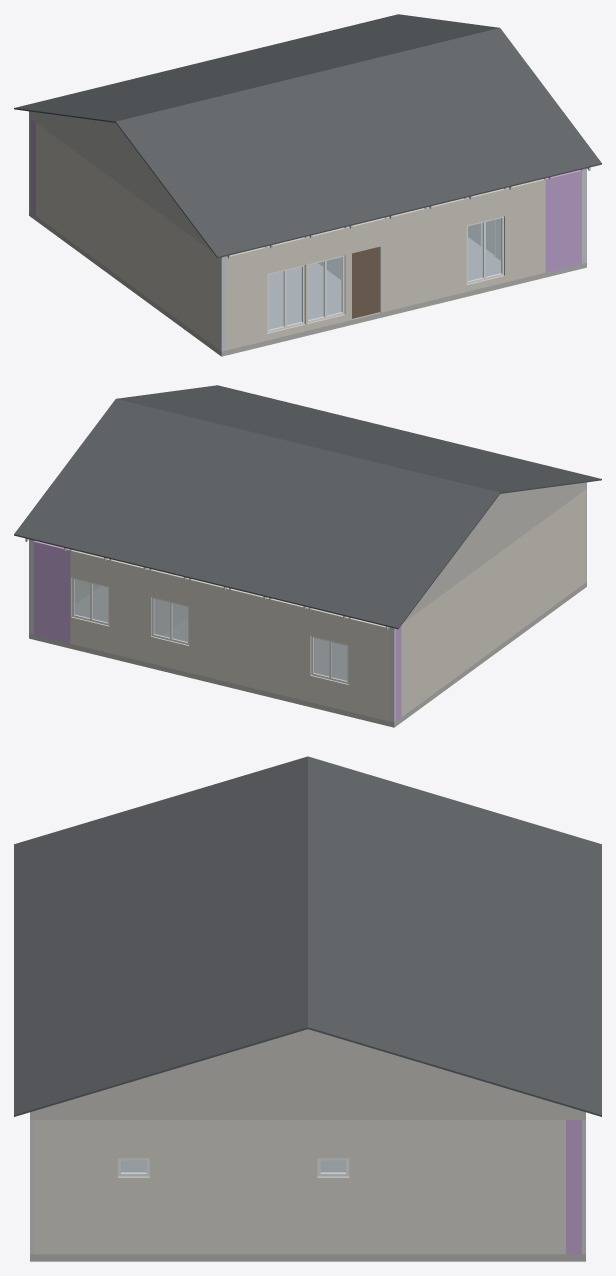
The model's file is Portman_PM-DENEME-3ARTI1-1150x1050_r01.glb.
The picture shows the model from 3 angles, top to bottom: view 1: azimuth 30°, elevation 25°; view 2: azimuth 150°, elevation 25°; view 3: azimuth 270°, elevation 25°; orthographic projection. The views are drawn at different scales.
Parts seen in each view (by area): view 1: CATI_ON, CATI_ARKA, ZEMIN_BETONU, ALIN_SOL, PANO_D_TAM_125.5_00, PANO_D_TAM_125.5_07, PANO_D_TAM_125.5_04, PANO_D_TAM_125.5_05, PANO_D_OZEL_114.0_08, PENCERE_120x180_01, PENCERE_120x180_00, PENCERE_120x180_03 (+16 smaller); view 2: CATI_ARKA, CATI_ON, ALIN_SOL, ZEMIN_BETONU, PANO_D_TAM_125.5_21, PANO_D_TAM_125.5_23, PANO_D_TAM_125.5_24, PANO_D_TAM_125.5_25, PANO_D_TAM_125.5_27, PANO_D_OZEL_114.0_29, PANO_D_TAM_125.5_22, PANO_D_TAM_125.5_28 (+16 smaller); view 3: CATI_ARKA, CATI_ON, ALIN_SAG, PANO_D_TAM_125.5_57, PANO_D_TAM_125.5_59, PANO_D_TAM_125.5_64, PANO_D_TAM_125.5_60, PANO_D_TAM_125.5_62, PANO_D_TAM_125.5_63, PANO_D_TAM_125.5_61, PANO_D_TAM_125.5_58, ZEMIN_BETONU (+1 smaller).
Part boxes in pixels (x1,y1,x2,y2): CATI_ON: (115,28,601,258); CATI_ARKA: (14,14,499,122); ZEMIN_BETONU: (29,211,586,356); ALIN_SOL: (29,111,226,258); PANO_D_TAM_125.5_00: (226,247,266,350); PANO_D_TAM_125.5_07: (505,179,545,282); PANO_D_TAM_125.5_04: (386,208,425,311); PANO_D_TAM_125.5_05: (426,198,465,301); PANO_D_OZEL_114.0_08: (545,170,581,272); PENCERE_120x180_01: (307,255,344,323); PENCERE_120x180_00: (267,265,304,332); PENCERE_120x180_03: (466,216,503,284); CATI_ARKA: (14,399,500,629); CATI_ON: (116,385,601,493); ALIN_SOL: (389,482,586,629); ZEMIN_BETONU: (29,582,586,727); PANO_D_TAM_125.5_21: (349,618,389,721); PANO_D_TAM_125.5_23: (269,598,309,701); PANO_D_TAM_125.5_24: (229,589,269,692); PANO_D_TAM_125.5_25: (190,579,229,682); PANO_D_TAM_125.5_27: (110,559,149,662); PANO_D_OZEL_114.0_29: (34,541,70,643); PANO_D_TAM_125.5_22: (309,608,349,711); PANO_D_TAM_125.5_28: (70,550,110,653); CATI_ARKA: (308,756,601,1116); CATI_ON: (14,756,307,1116); ALIN_SAG: (30,1029,585,1119); PANO_D_TAM_125.5_57: (34,1120,100,1254); PANO_D_TAM_125.5_59: (167,1120,233,1254); PANO_D_TAM_125.5_64: (499,1120,565,1254); PANO_D_TAM_125.5_60: (233,1120,299,1254); PANO_D_TAM_125.5_62: (366,1120,432,1254); PANO_D_TAM_125.5_63: (433,1120,499,1254); PANO_D_TAM_125.5_61: (300,1120,366,1254); PANO_D_TAM_125.5_58: (100,1120,166,1254); ZEMIN_BETONU: (30,1254,585,1261).
Size of what is drawn, in the model's own units: 12.1 by 5.02 by 11.1.
